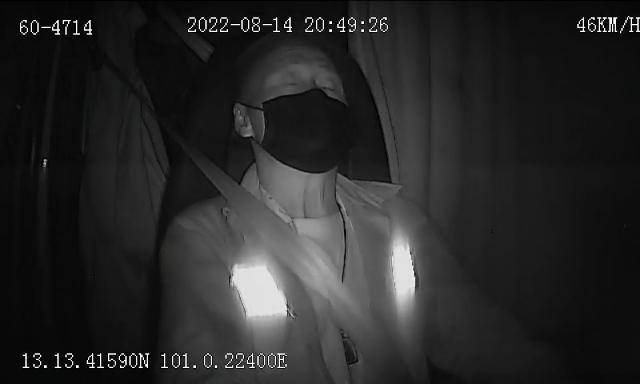Seatbelt: (186, 146, 378, 366)
